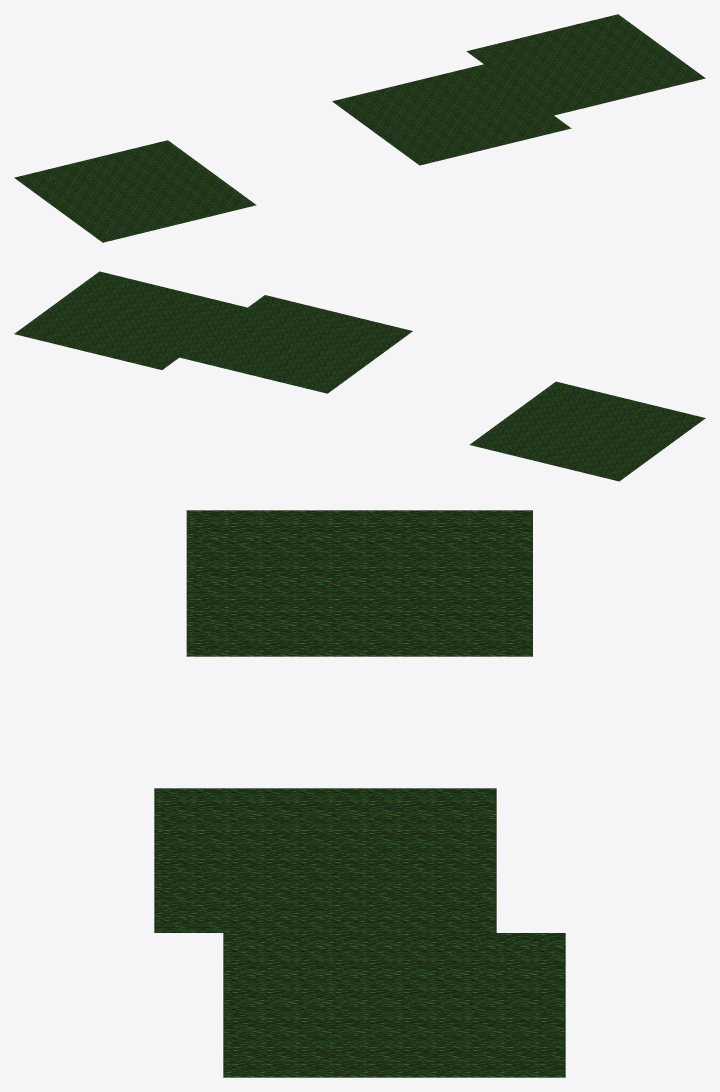
Rendered from slime.obj.
3 renders of one model, top to bottom at view 1: azimuth 30°, elevation 25°; view 2: azimuth 150°, elevation 25°; view 3: azimuth 270°, elevation 25°, orthographic. The views are drawn at different scales.
Parts seen in each view (by area): view 1: slime_Plane.003; view 2: slime_Plane.003; view 3: slime_Plane.003.
Part boxes in pixels (<box>): slime_Plane.003: <box>14,14,705,242</box>; slime_Plane.003: <box>14,271,705,481</box>; slime_Plane.003: <box>154,510,565,1077</box>.
Size of the model in its own units: 80.6 by 0.9966 by 24.04.
Materials: 1 (1 with a texture image).
